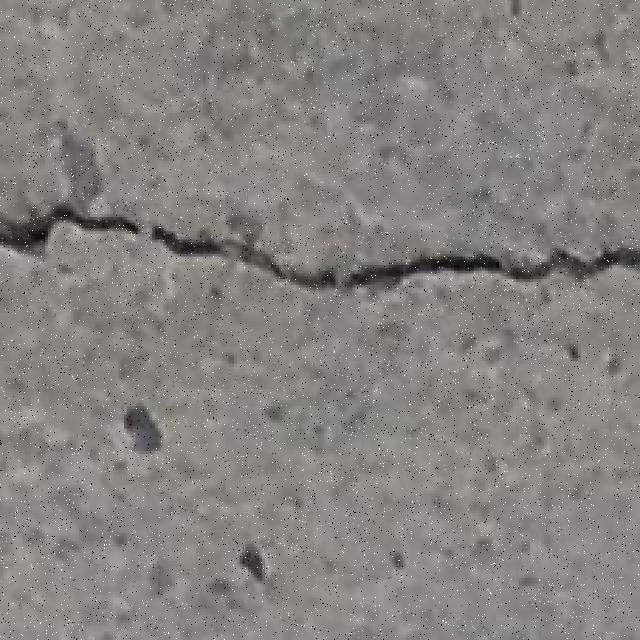crack: (1, 205, 639, 290), (2, 202, 146, 250)
